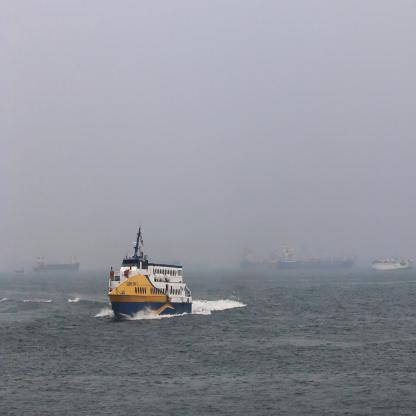Container Ship: (280, 247, 355, 272), (33, 258, 81, 274), (372, 254, 414, 272), (240, 250, 269, 272), (151, 256, 182, 266), (270, 255, 280, 271), (14, 266, 26, 276)
